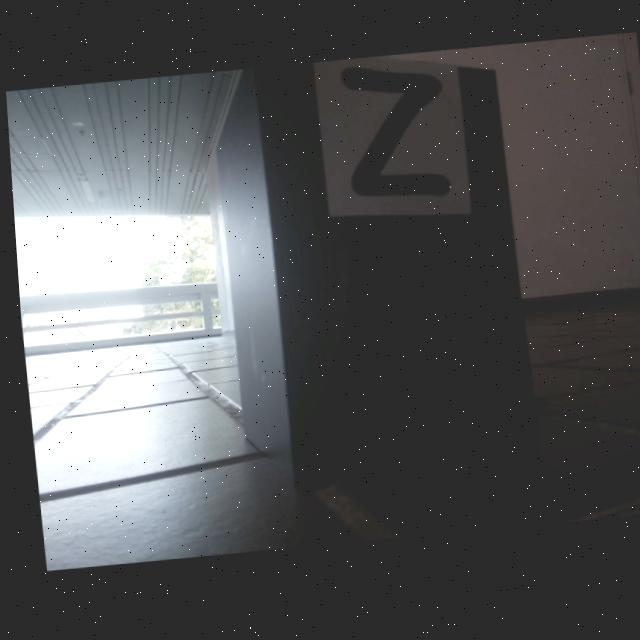Z: (339, 72, 448, 201)
